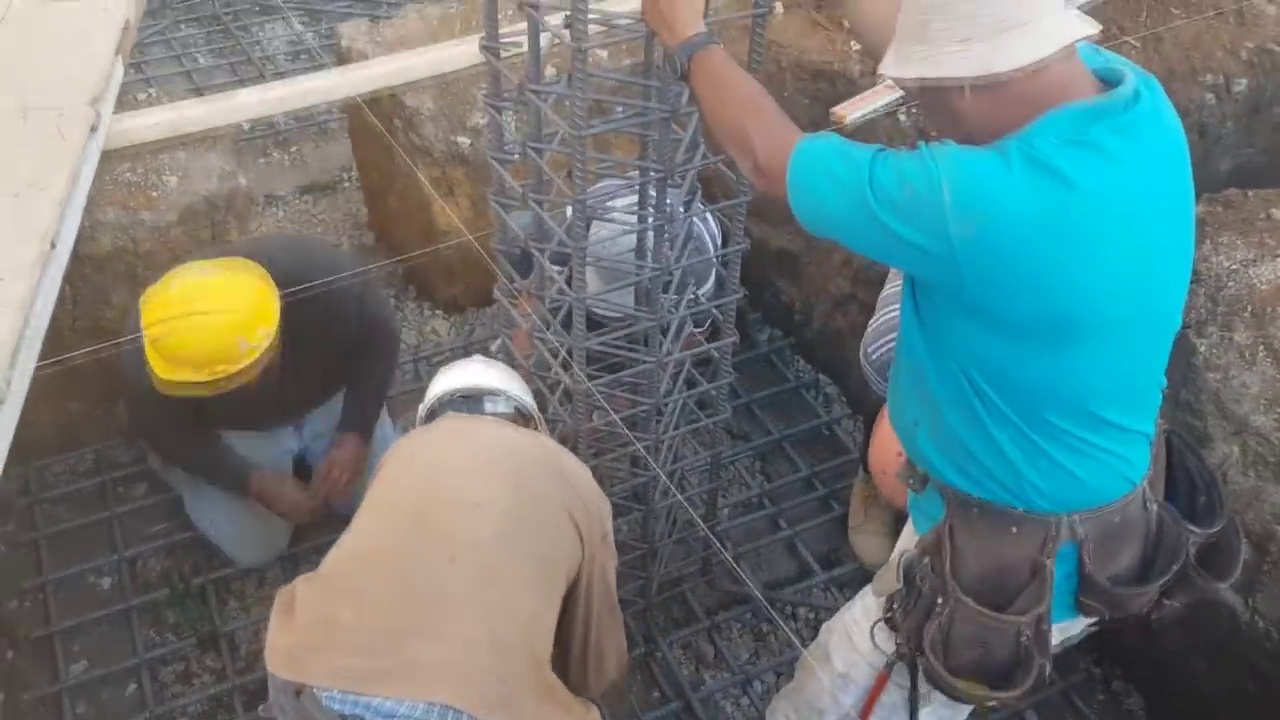helmet: (139, 250, 284, 400), (870, 396, 921, 513)
helmet-off: (870, 0, 1134, 142), (579, 195, 698, 339)
helmet-on: (124, 241, 290, 419), (856, 374, 937, 532), (408, 357, 546, 429)
person: (632, 0, 1228, 720), (249, 346, 624, 706), (112, 232, 406, 566), (500, 167, 728, 390)
